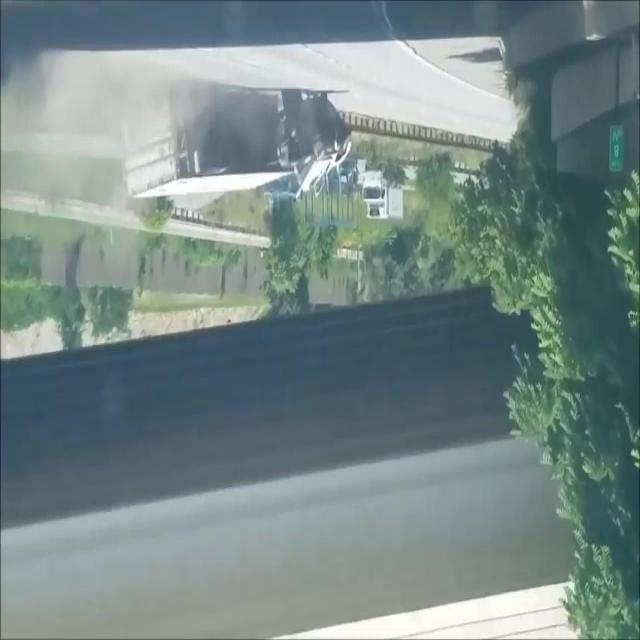severe: (118, 73, 356, 209)
